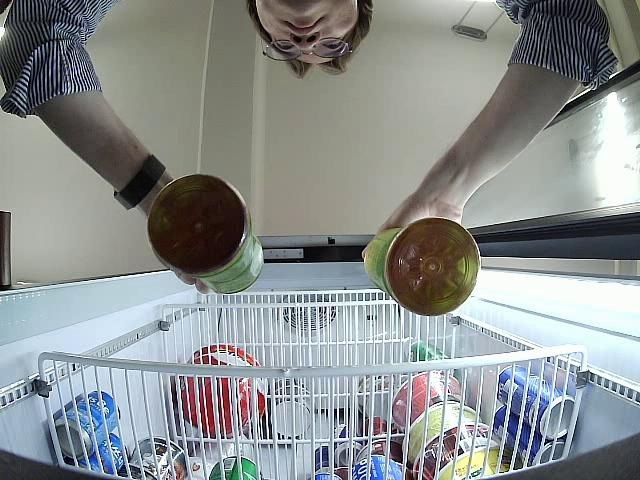00_hand: (361, 198, 463, 260), (146, 218, 211, 296)
19_17cha: (146, 173, 264, 296), (366, 217, 481, 316)
